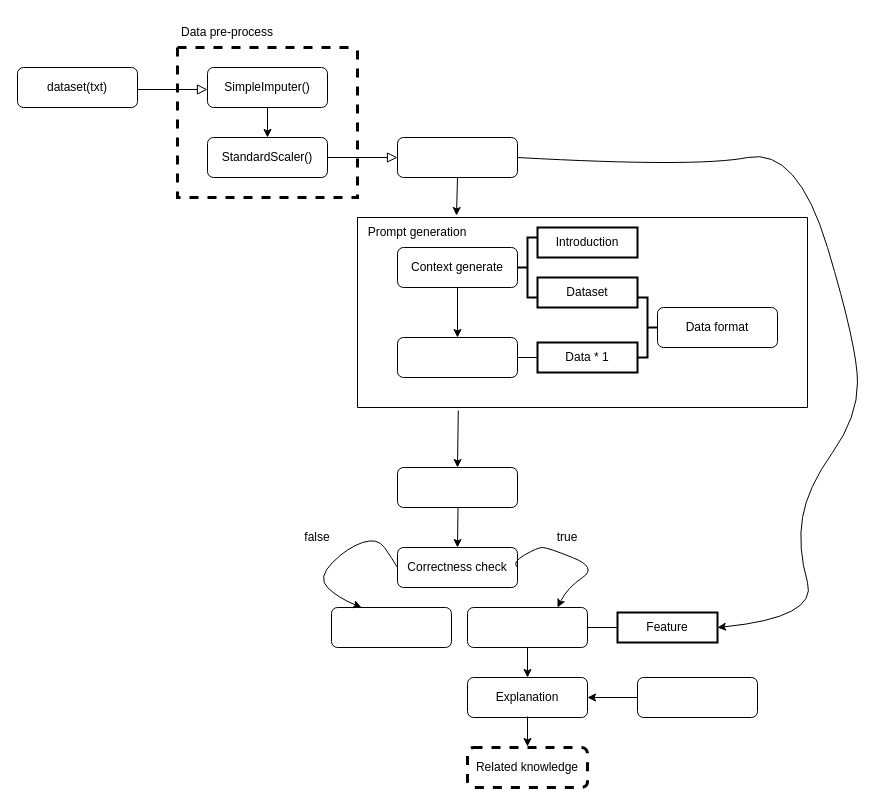
This 875x806 diagram has some shape labels left out. Each missing label, with the centre of its shape:
Check manuelly: the point at 697,697
fail: the point at 391,627
Feature importance: the point at 527,627
Feature selection: the point at 457,157
GPT classify: the point at 457,487
Query generate: the point at 457,357
